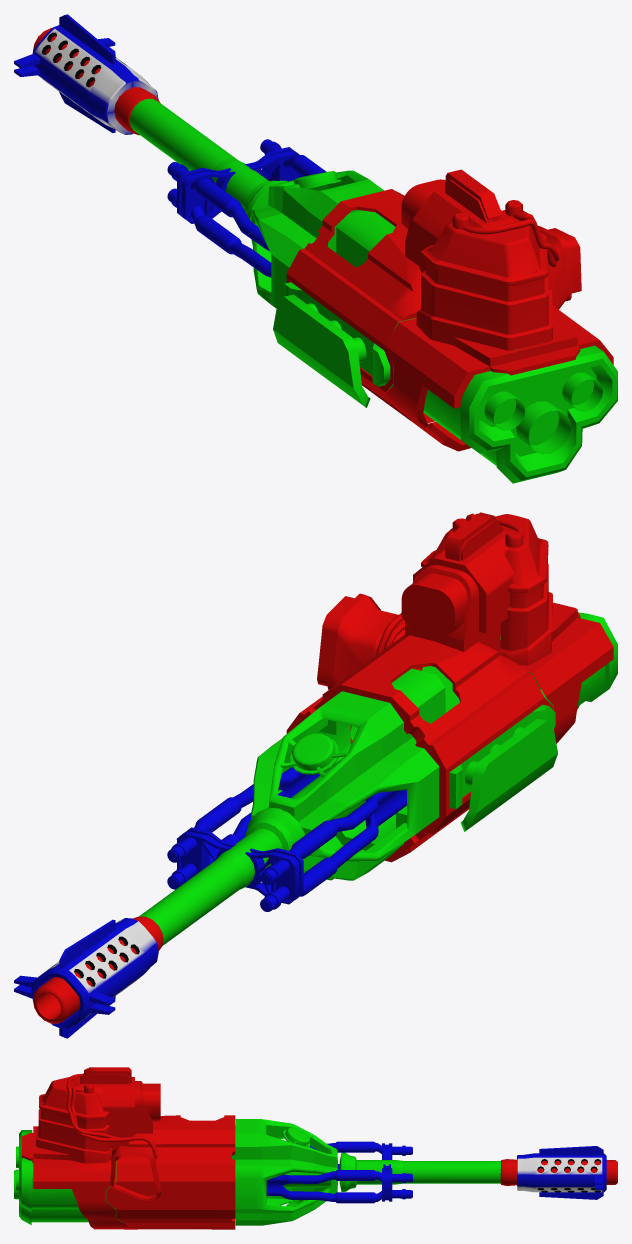
Rendered from puncher.fbx.
3 renders of one model, top to bottom at view 1: azimuth 30°, elevation 25°; view 2: azimuth 150°, elevation 25°; view 3: azimuth 270°, elevation 25°, orthographic. The views are drawn at different scales.
Parts seen in each view (by area): view 1: RecoilMainBone; view 2: RecoilMainBone; view 3: RecoilMainBone.
Boxes of the visible parts, x1,y1,x2,y2 form: RecoilMainBone: (14,14,617,483); RecoilMainBone: (14,512,617,1038); RecoilMainBone: (14,1067,617,1229).
Bounding box in the file's own units: 3.79 × 4.22 × 15.13.
